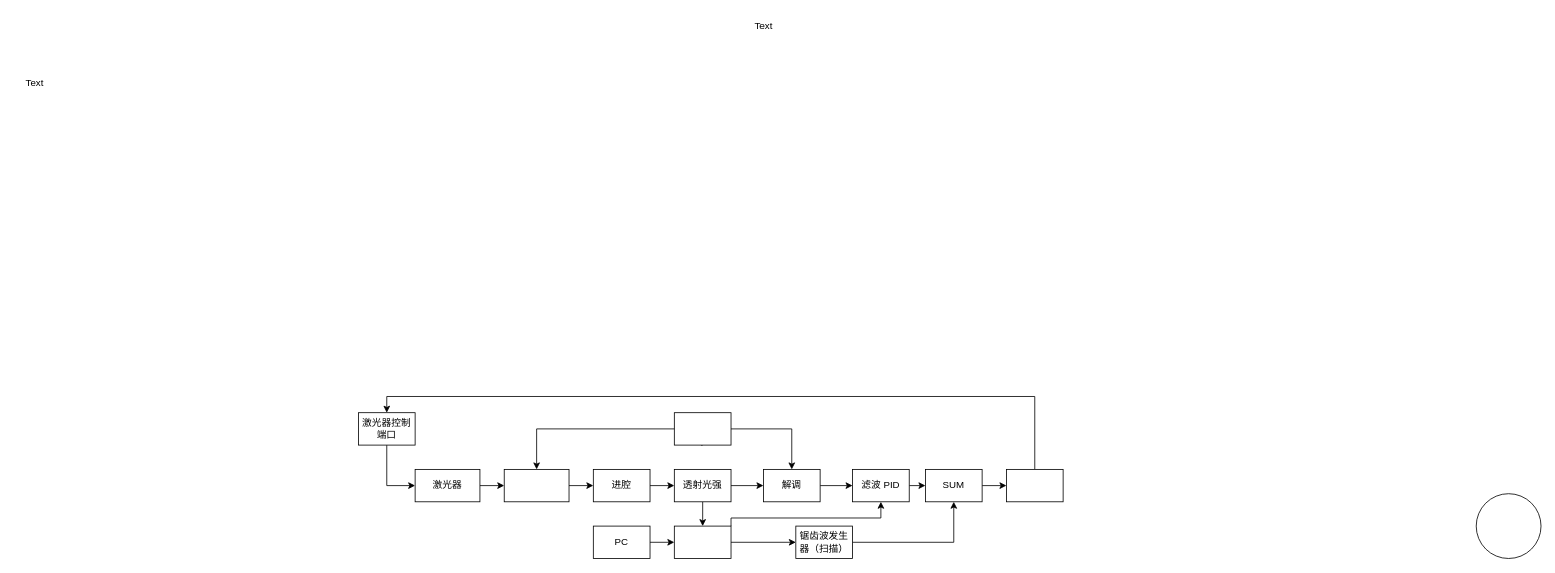
Some shapes in this 1555 by 573 pixel diagram are drawn without their labels. The centre of each missing label's shape, as x and y in pixels:
"EOM调制" belongs at (x=536, y=485).
"反馈信号" belongs at (x=1034, y=485).
"正弦波 发生器" belongs at (x=702, y=428).
"状态机" belongs at (x=702, y=541).
